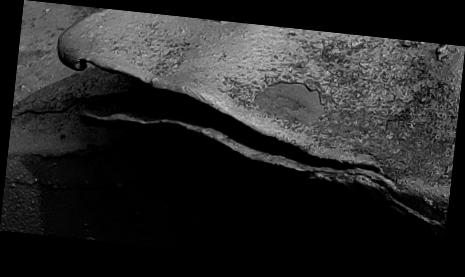crack: (0, 1, 465, 277)
